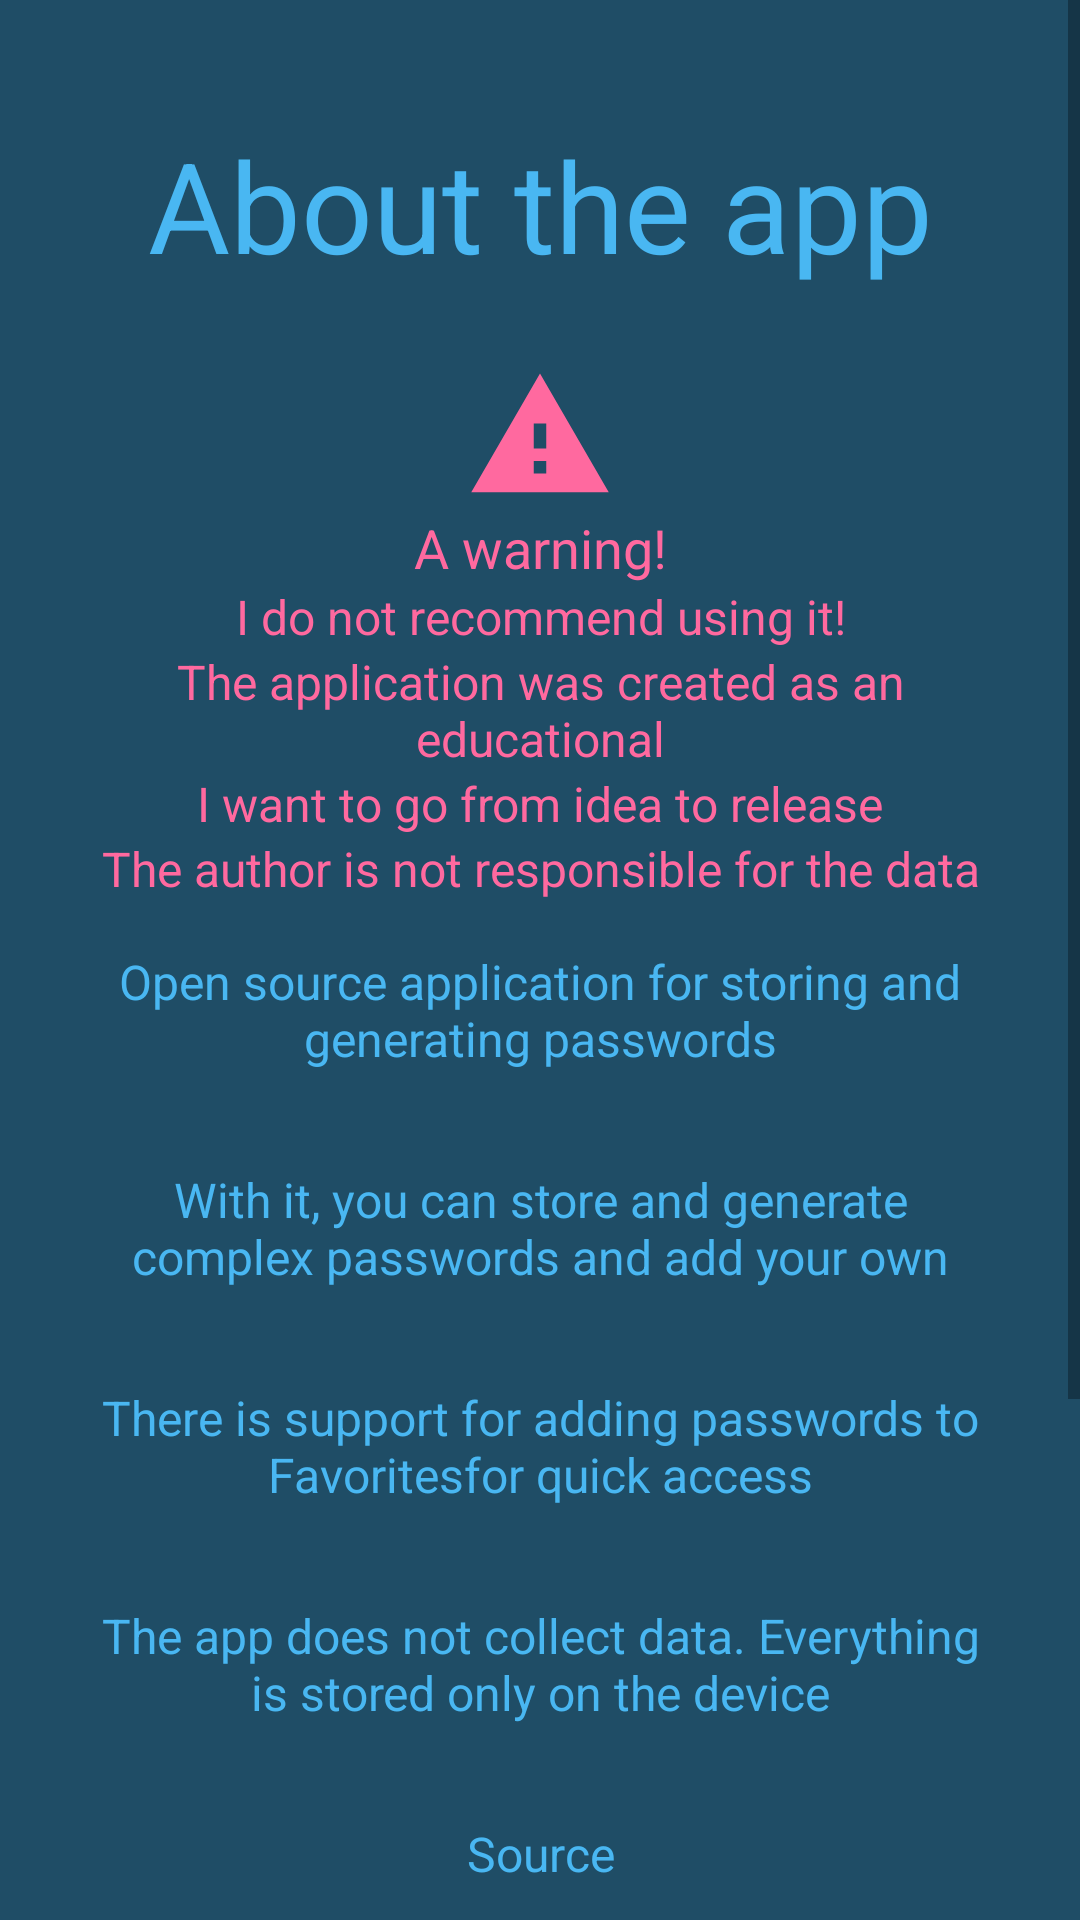

Screen size 1080 × 1920. Icon name, then its center in pixels as point (x, y):
danger: point (540, 433)
